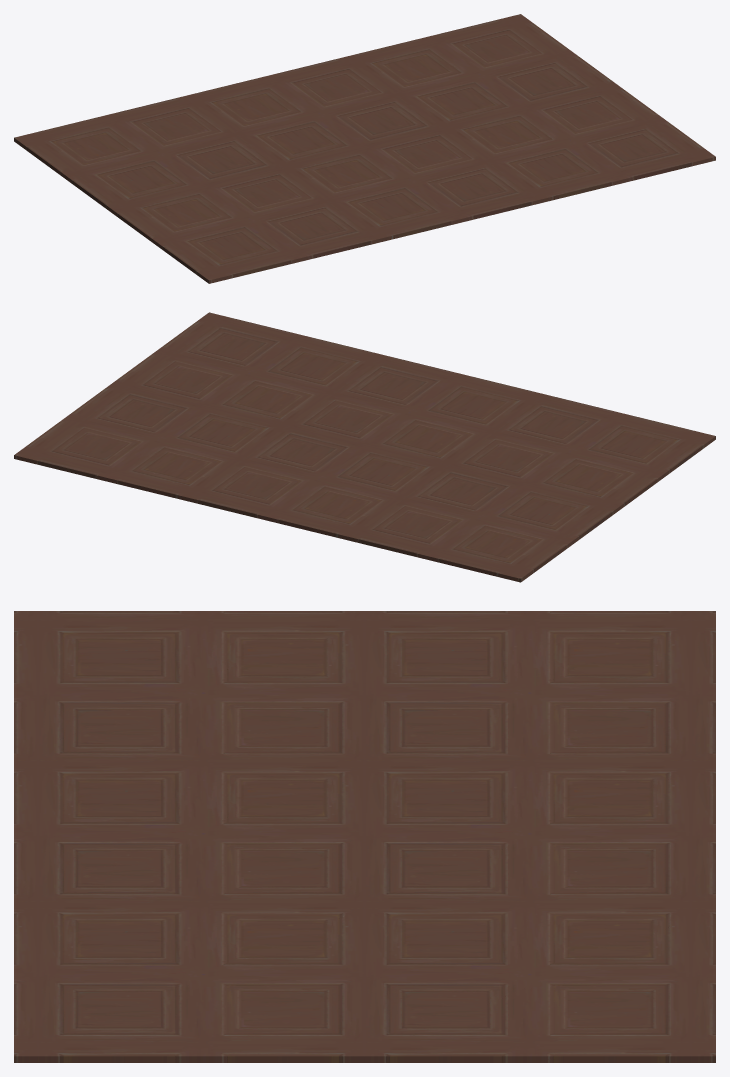
File: Homeworld_Interior_Md_Room_B_Ceiling_02_Vo.fbx
3 renders of one model, top to bottom at view 1: azimuth 30°, elevation 25°; view 2: azimuth 150°, elevation 25°; view 3: azimuth 270°, elevation 25°, orthographic. The views are drawn at different scales.
Parts seen in each view (by area): view 1: Homeworld_Interior_Md_Room_B_Ceiling_01_Vo; view 2: Homeworld_Interior_Md_Room_B_Ceiling_01_Vo; view 3: Homeworld_Interior_Md_Room_B_Ceiling_01_Vo.
Boxes of the visible parts, box(x1,y1,x2,y2) form: Homeworld_Interior_Md_Room_B_Ceiling_01_Vo: box(14, 14, 715, 283); Homeworld_Interior_Md_Room_B_Ceiling_01_Vo: box(14, 312, 715, 582); Homeworld_Interior_Md_Room_B_Ceiling_01_Vo: box(14, 611, 715, 1062).
Size of the model in its own units: 15 by 0.105 by 10.
